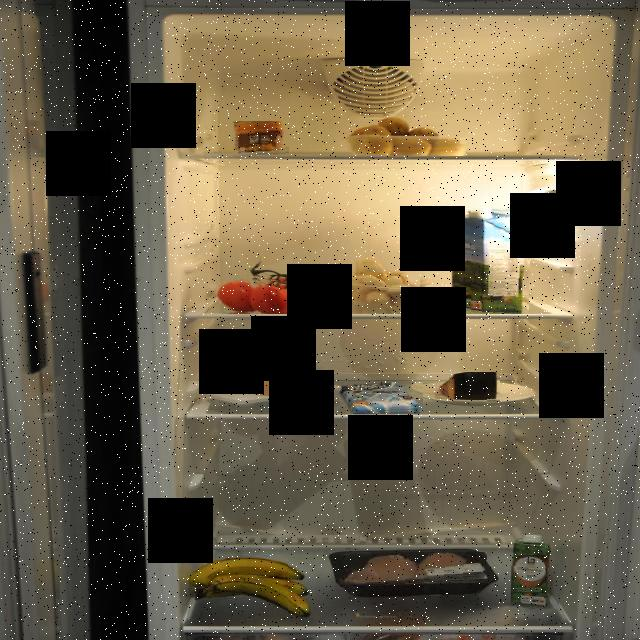banana: (186, 555, 315, 618)
cheese: (436, 372, 501, 404)
chicken_breast: (340, 552, 488, 587)
chocolate: (343, 382, 423, 413)
corn: (232, 121, 290, 158)
eggs: (220, 366, 323, 395)
heavy_cream: (511, 532, 560, 609)
milk: (454, 204, 530, 314)
mushrooms: (344, 256, 420, 306)
potato: (344, 114, 466, 156)
tomato: (217, 274, 338, 314)
